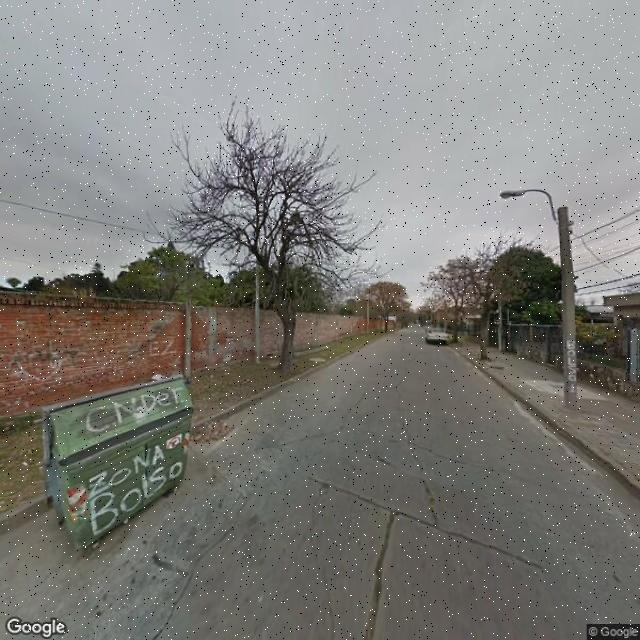garbage container: (28, 370, 212, 560)
